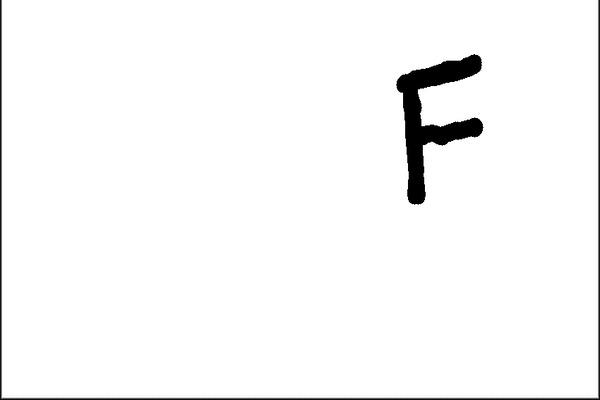F: (391, 50, 488, 207)
